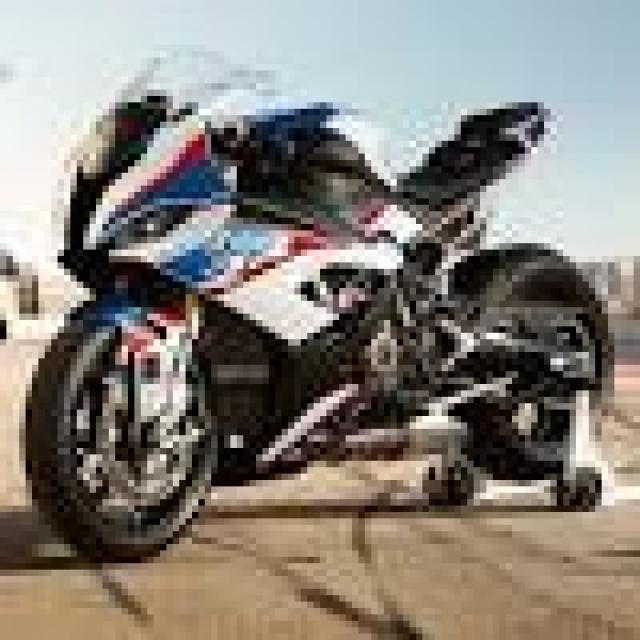Bike: (21, 45, 615, 565)
